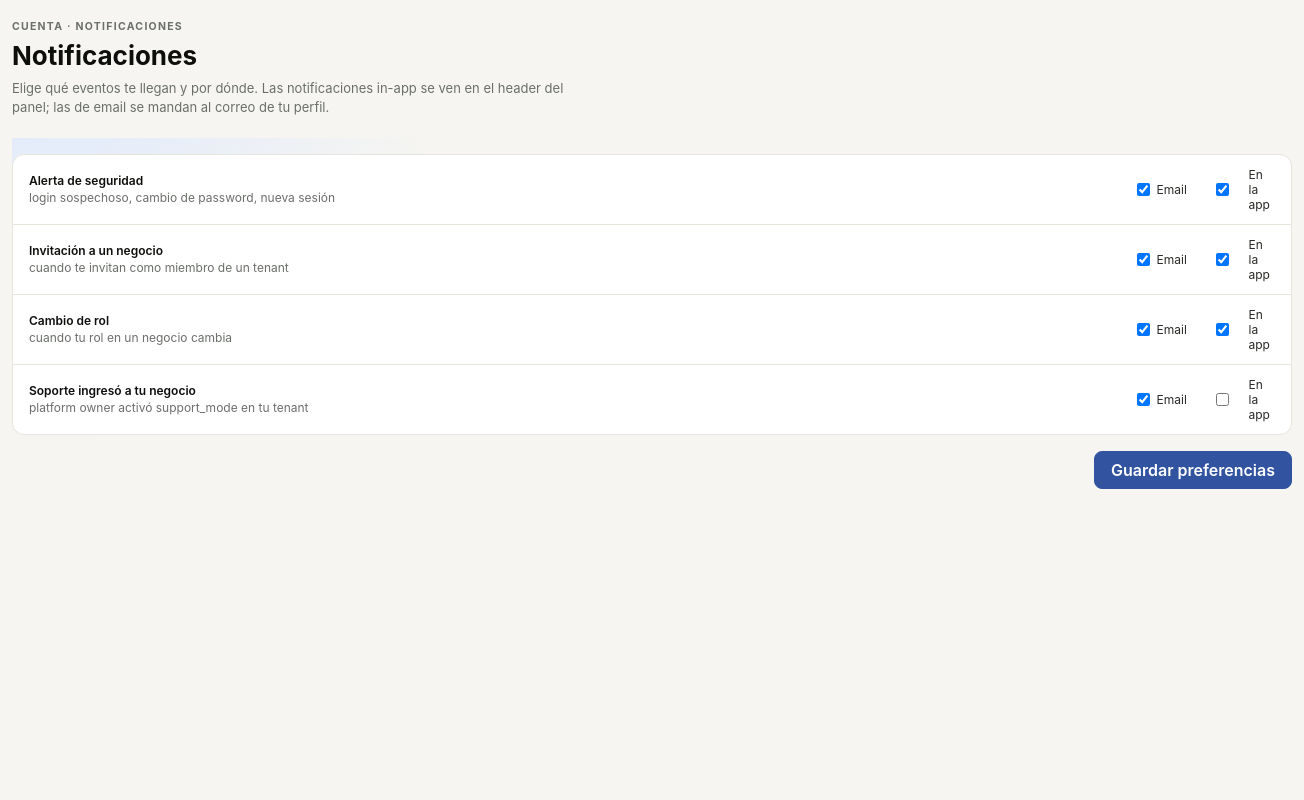
Test: <AccountNotifications/> › si el backend devuelve 422 muestra AlertBanner danger
This screenshot has width=1304, height=800.
Click the button "Guardar preferencias" at point(1193, 470), box [1094,451,1292,489]
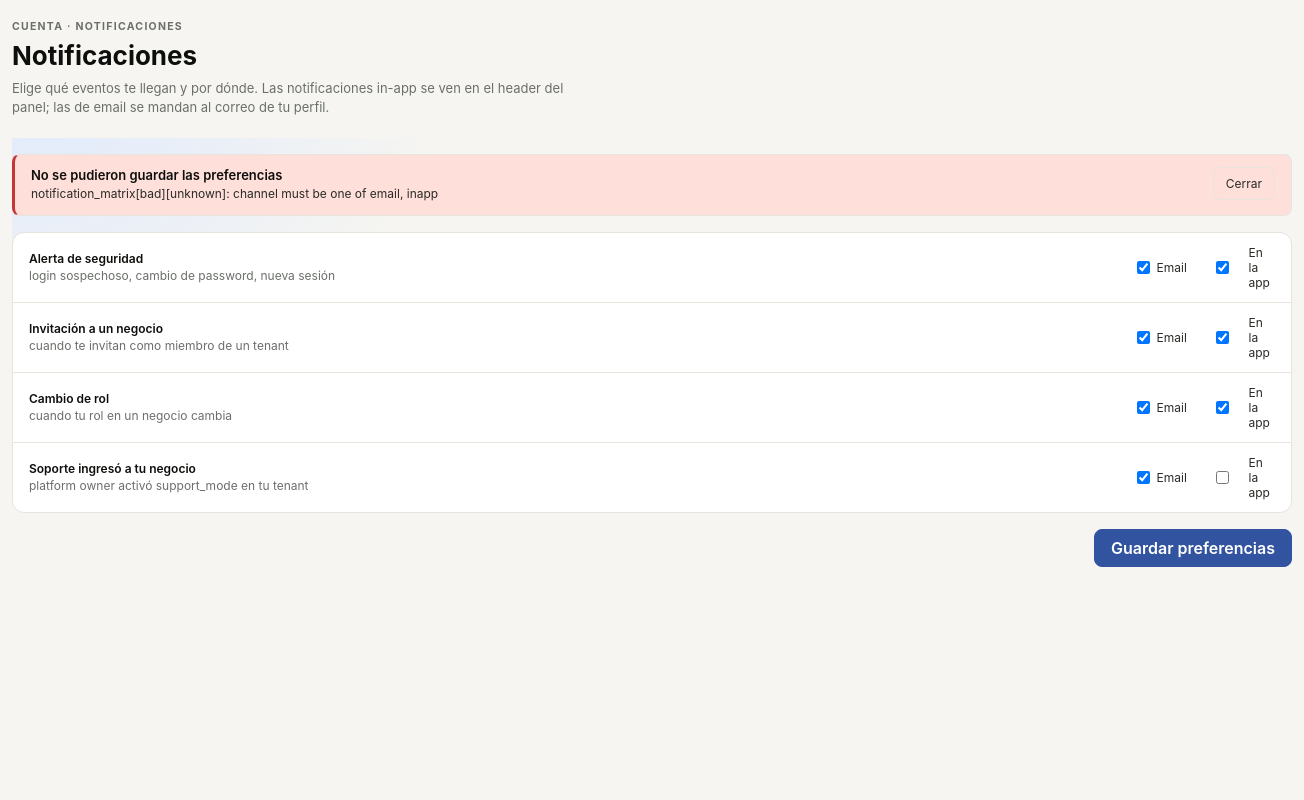
Expected: the text "channel must be one of" is shown, [31,186,438,201]
